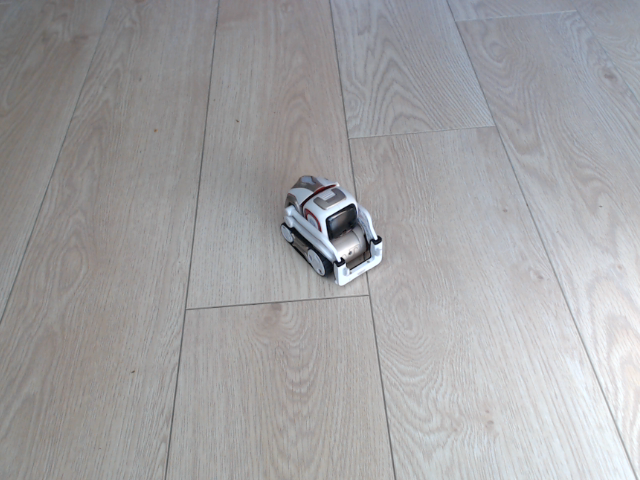cozmo: (277, 174, 387, 288)
